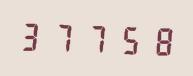eight: (142, 21, 172, 58)
five: (111, 20, 141, 57)
seven: (49, 18, 79, 55), (80, 19, 110, 56)
three: (18, 17, 48, 54)
